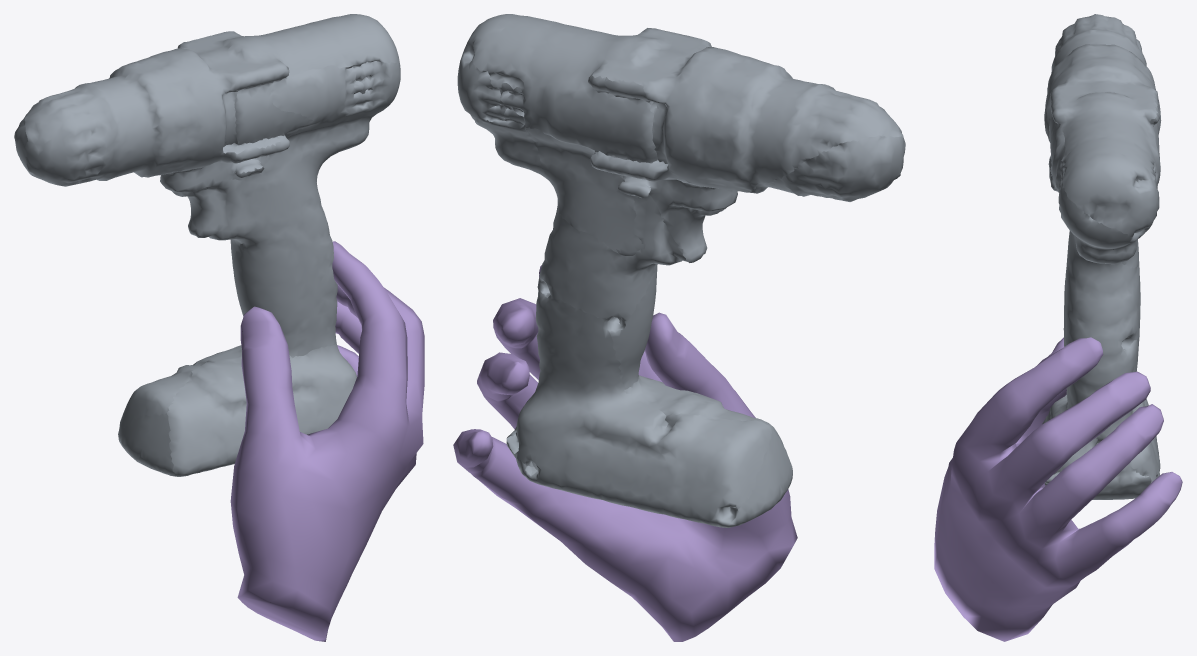
File: ours_power_drill.glb
3 views of the same model, side by side, from view 1: azimuth 30°, elevation 25°; view 2: azimuth 150°, elevation 25°; view 3: azimuth 270°, elevation 25° (orthographic). The views are drawn at different scales.
Bounding box in the file's own units: 0.1866 × 0.2691 × 0.1117.
